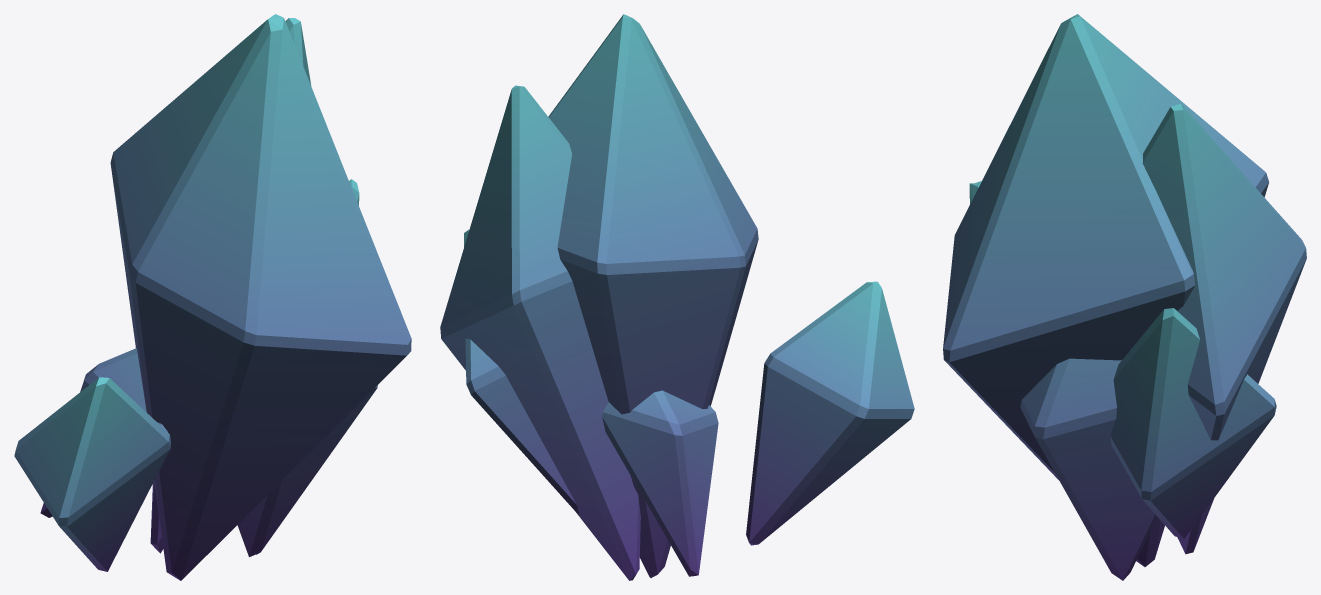
File: cristal_aglomerado_b.fbx
3 renders of one model, left to right at view 1: azimuth 30°, elevation 25°; view 2: azimuth 150°, elevation 25°; view 3: azimuth 270°, elevation 25°, orthographic. The views are drawn at different scales.
Parts seen in each view (by area): view 1: cristal_aglomerado_b; view 2: cristal_aglomerado_b; view 3: cristal_aglomerado_b.
Boxes of the visible parts, x1,y1,x2,y2 form: cristal_aglomerado_b: (14, 14, 411, 580); cristal_aglomerado_b: (440, 14, 914, 580); cristal_aglomerado_b: (943, 14, 1306, 580).
Size of the model in its own units: 2.11 by 2.91 by 1.65.
